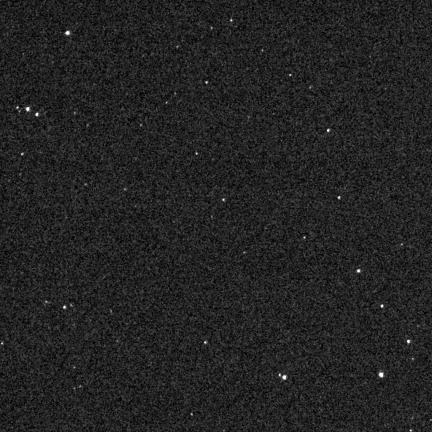blob: (282, 375, 287, 381), (379, 372, 384, 377), (65, 31, 70, 35), (222, 198, 226, 203), (63, 306, 67, 310), (327, 129, 331, 133), (26, 107, 29, 111), (206, 81, 209, 85), (407, 340, 410, 344), (289, 74, 293, 77), (196, 152, 199, 156), (338, 196, 341, 200), (357, 269, 360, 272), (381, 305, 383, 308), (36, 113, 38, 116), (205, 341, 207, 344)
